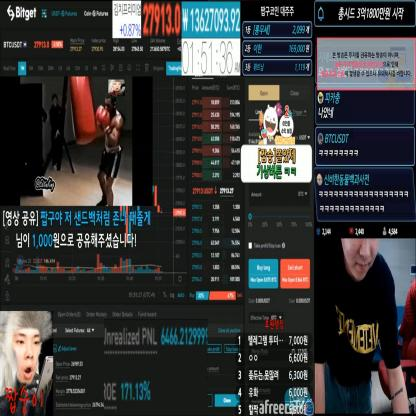donation: (0, 78, 155, 257), (238, 102, 314, 186)
streamer: (314, 240, 410, 413)
